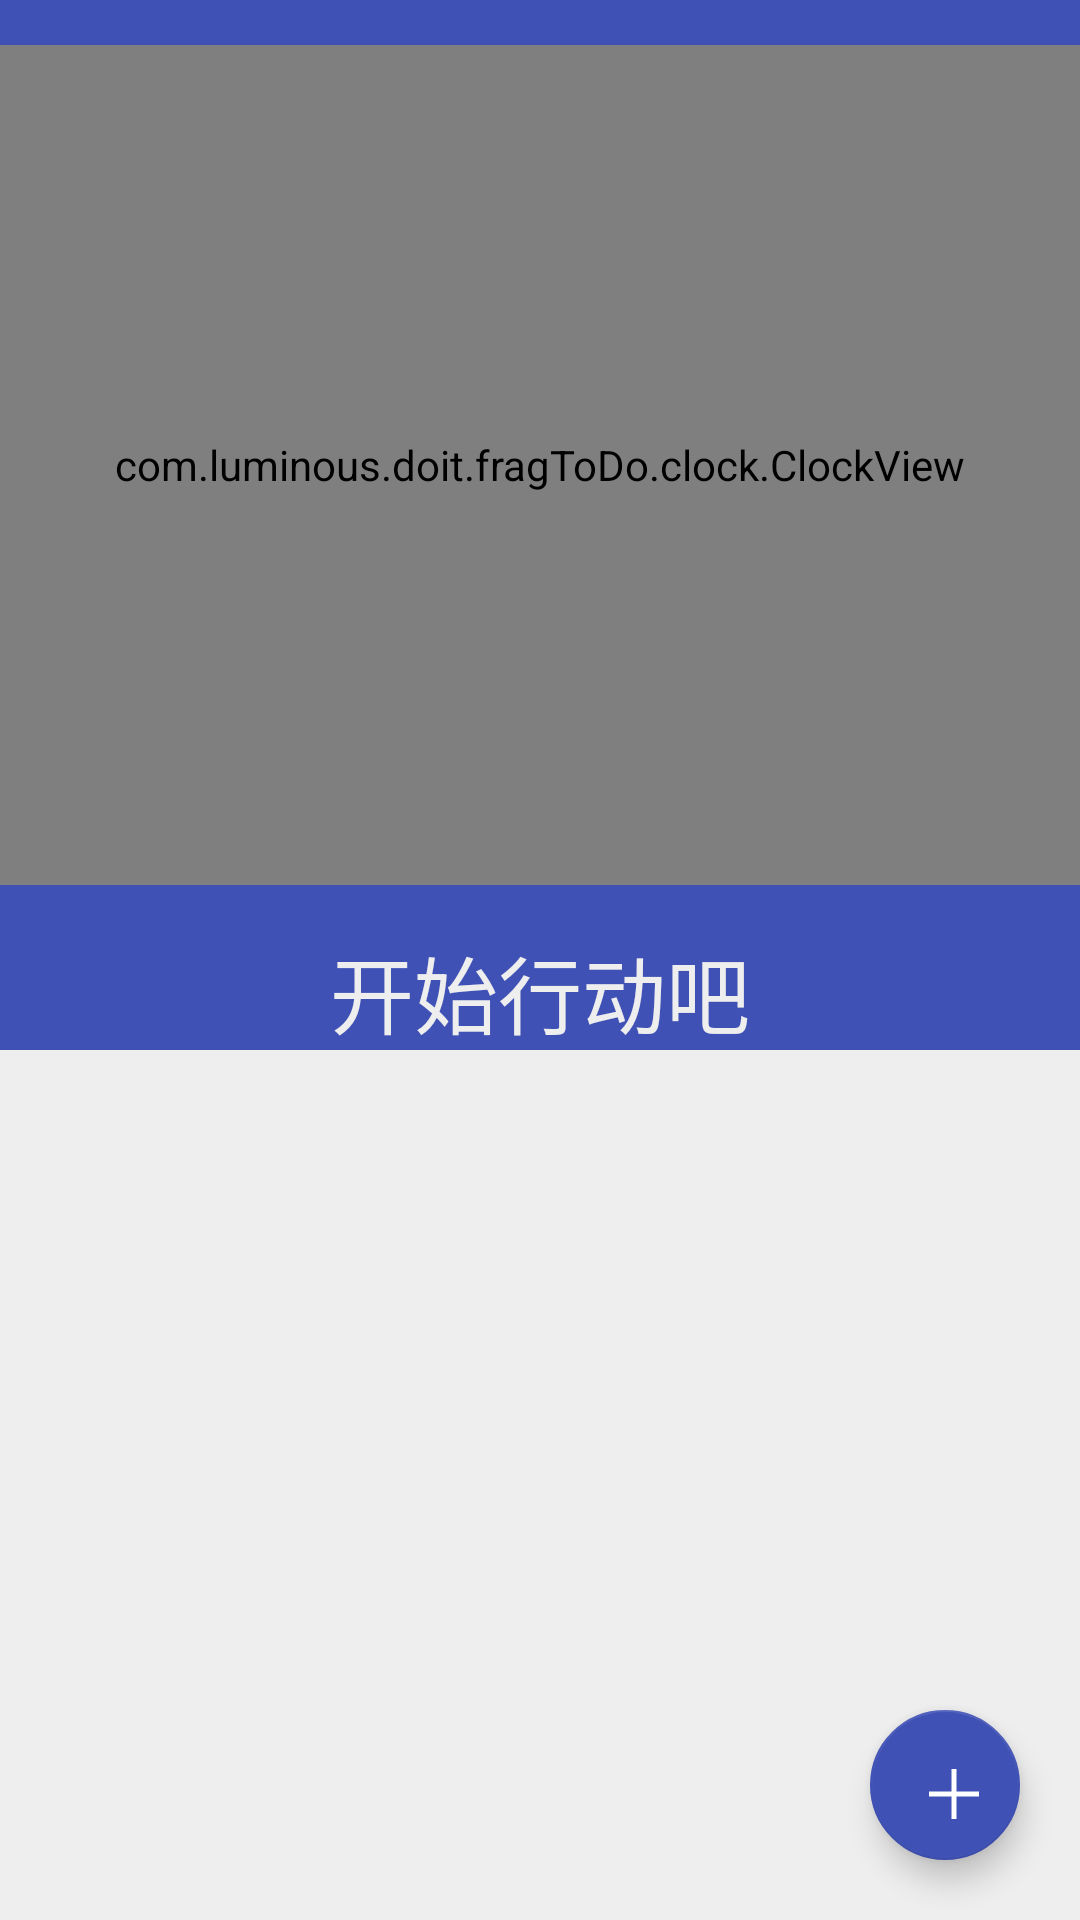

Named icons in this screenshot (1080×1920) and their centers, [x,y]:
add: [945,1785]
